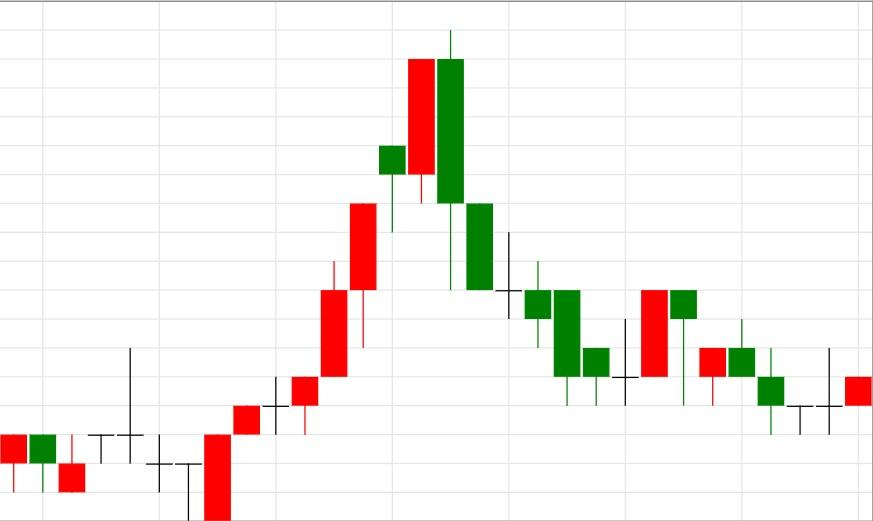bearish_engulfing_fall: (203, 29, 464, 520)
morning_star_rise: (436, 28, 670, 406)
